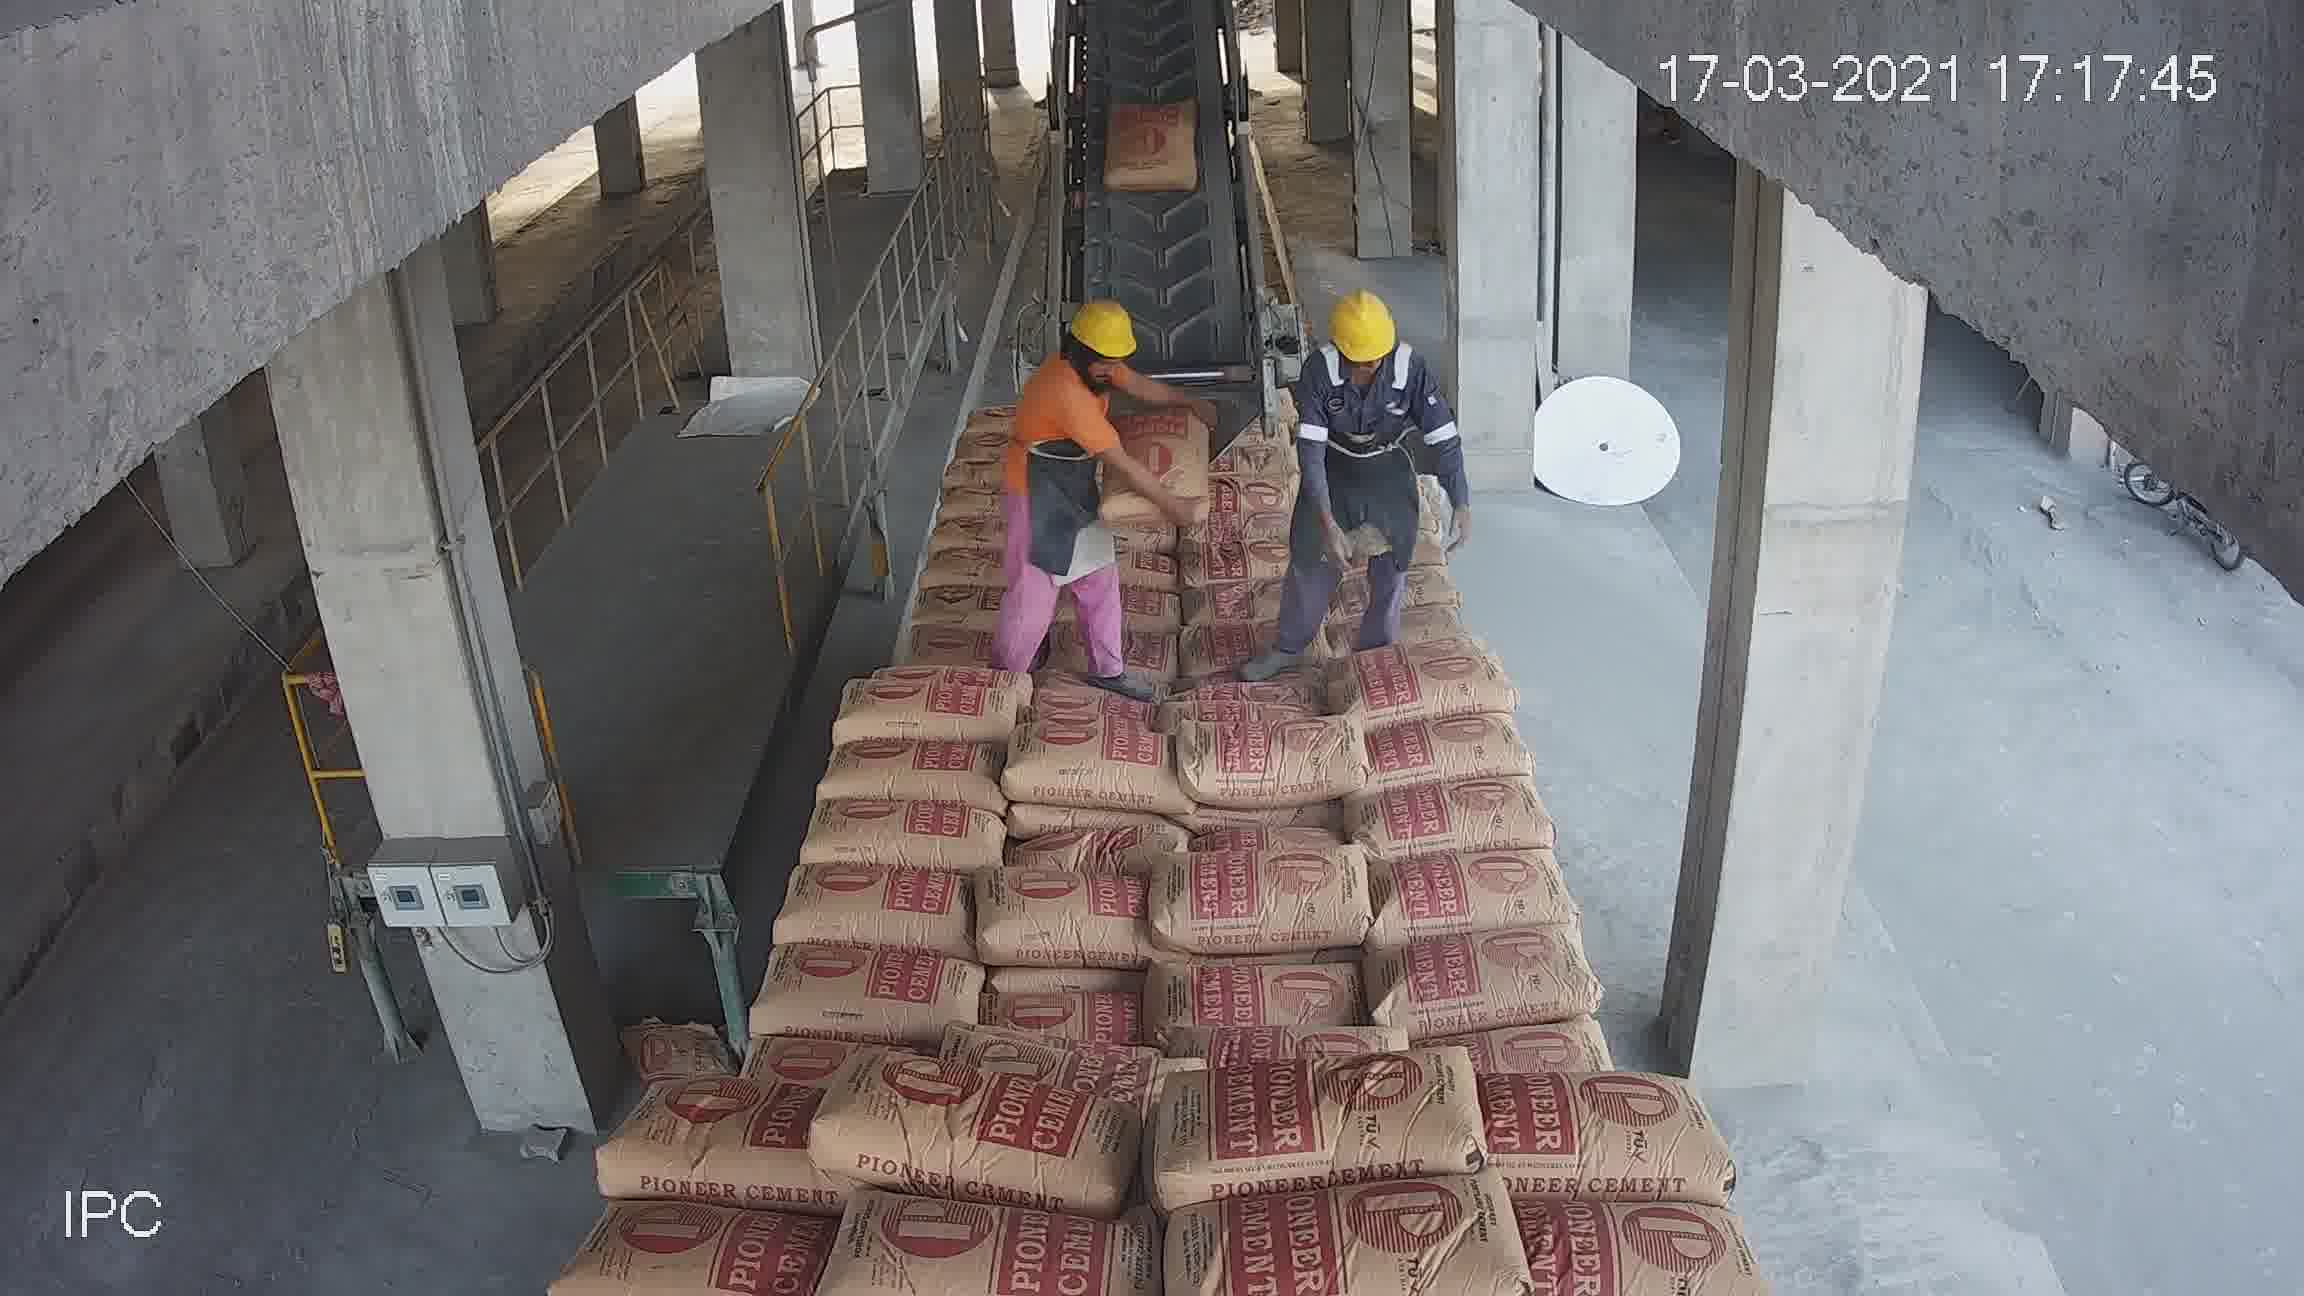bag_h: (1149, 1043, 1480, 1204), (809, 1048, 1135, 1199), (1163, 1171, 1525, 1290), (809, 1185, 1154, 1293), (1476, 1074, 1733, 1203), (585, 1082, 824, 1218), (1513, 1180, 1771, 1294), (540, 1198, 836, 1291), (1366, 926, 1597, 1036), (748, 946, 986, 1044), (1146, 856, 1375, 953), (771, 848, 975, 953), (1343, 764, 1556, 859), (1370, 848, 1578, 943), (968, 869, 1161, 964), (1150, 956, 1367, 1040), (1174, 718, 1369, 805), (1340, 642, 1518, 734), (994, 718, 1176, 804), (794, 790, 1010, 861), (953, 1022, 1158, 1097), (817, 733, 1014, 809), (1359, 707, 1532, 786), (1442, 1003, 1622, 1078), (836, 677, 1017, 747), (980, 967, 1143, 1040), (1180, 532, 1291, 592), (1051, 593, 1176, 646), (897, 581, 1010, 638), (1180, 581, 1296, 633), (891, 623, 1003, 673), (1203, 470, 1282, 529), (908, 548, 1013, 592), (913, 510, 1000, 554)
bag_v: (1097, 394, 1207, 524), (1106, 93, 1196, 190)
belt: (1051, 28, 1268, 472)
